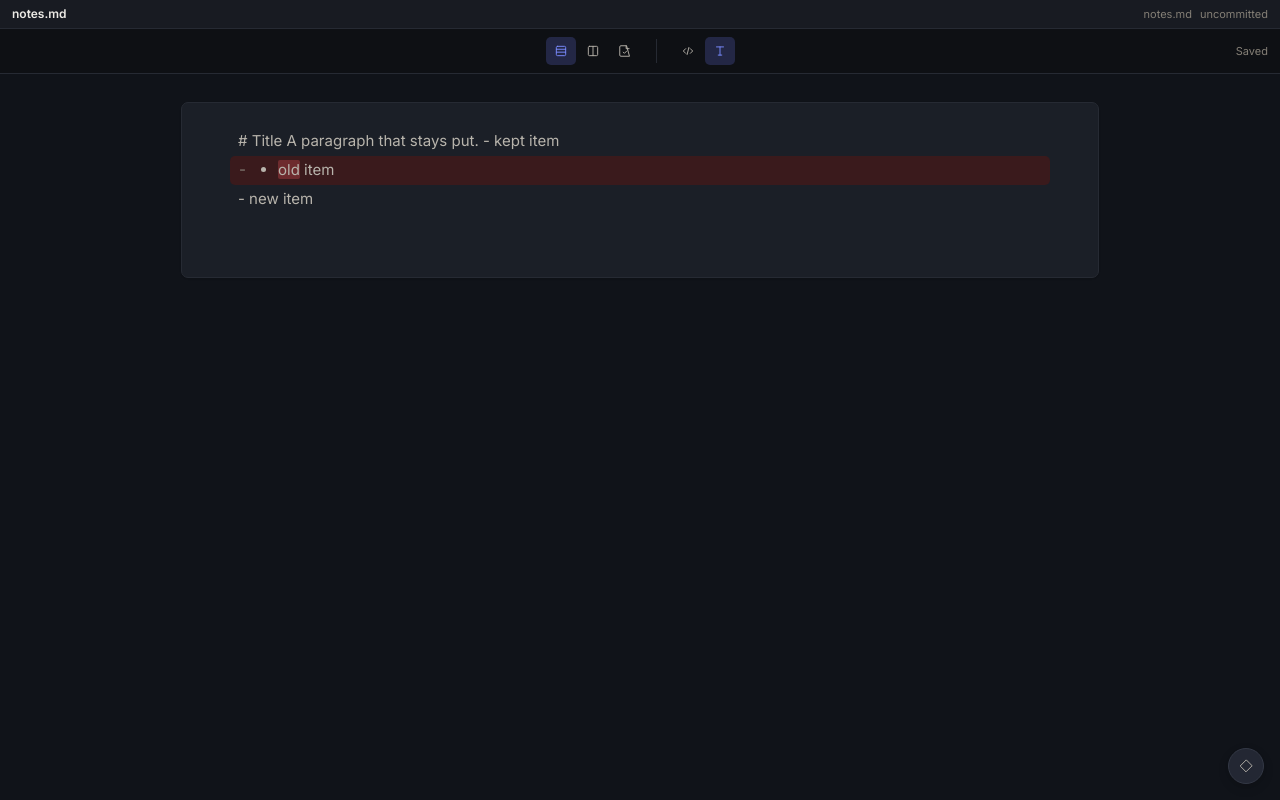
Rendering group (DFV-FR-16 .. DFV-FR-22, less FR-19's inner clause) › DFV-FR-38: the body is the page's field for Rich and nothing's field for Source
Expected: the element with test id "diff-rich-unified" is shown, [181,102,1099,278]
Click the radio button named "Source" at (688, 51), box [672,37,702,65]
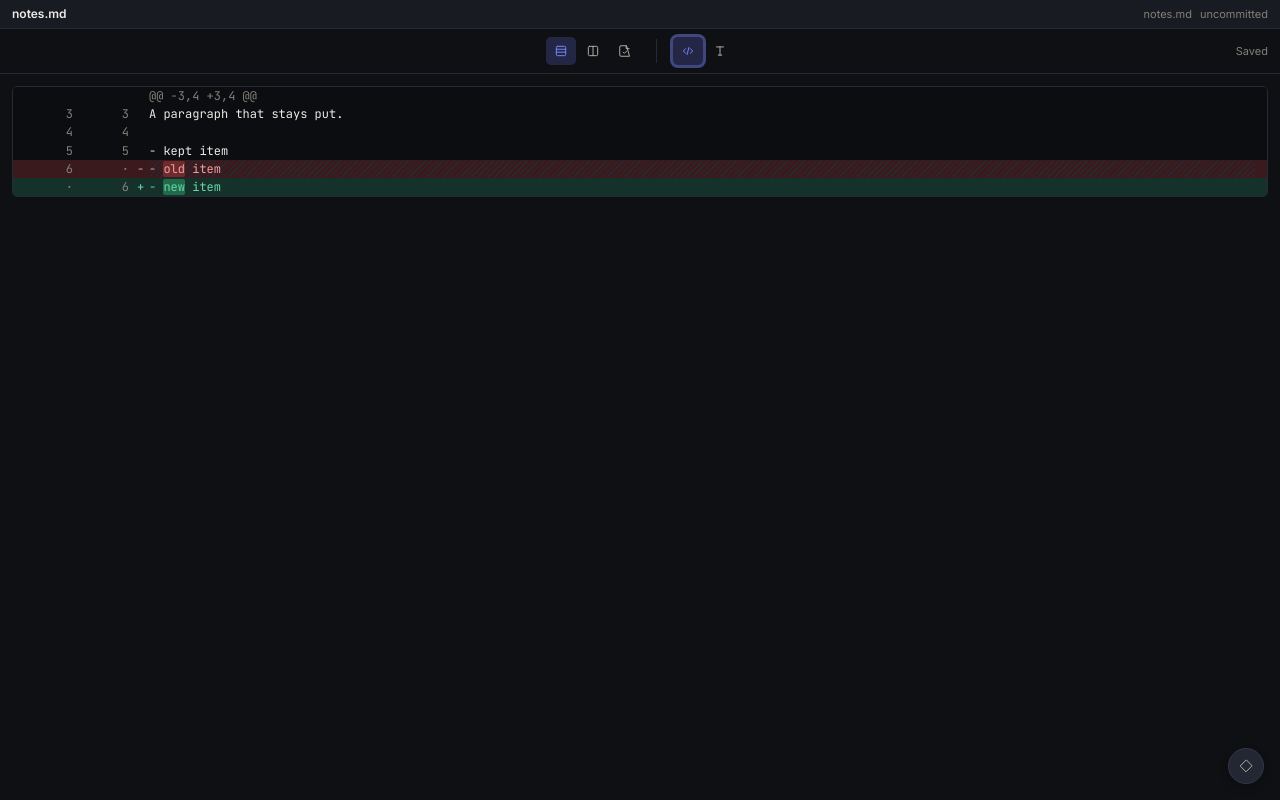
Expected: the element with test id "diff-rich-unified" is gone
